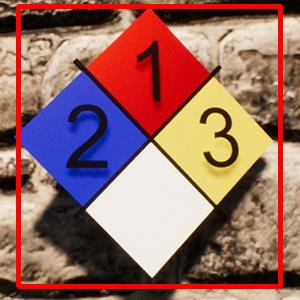nfpa: (18, 6, 280, 286)
